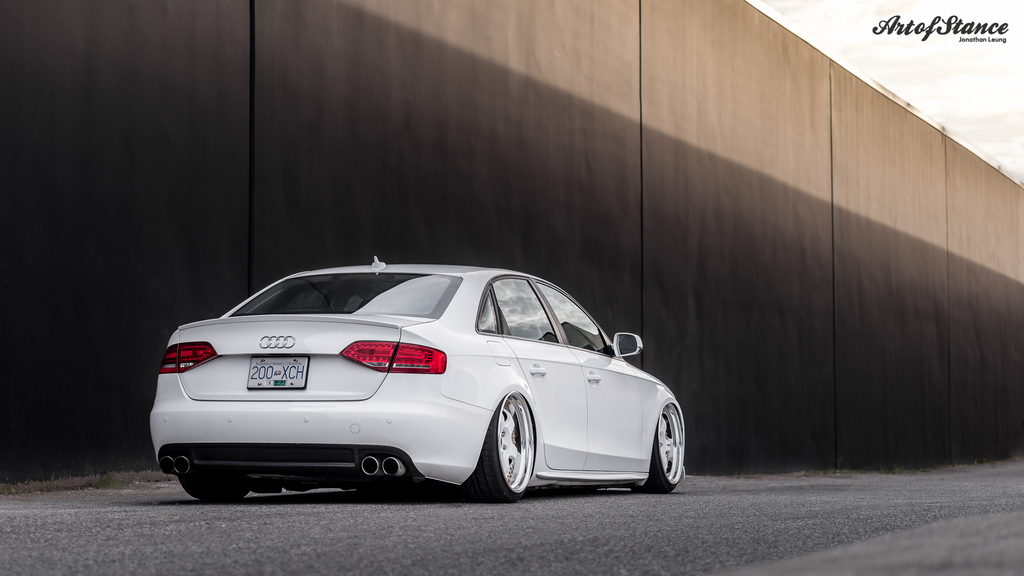license plate: (247, 355, 304, 391)
